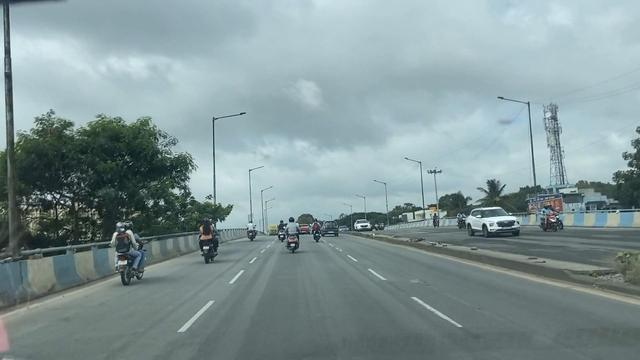LMV: (113, 221, 146, 278), (197, 214, 220, 265), (287, 216, 302, 254), (309, 219, 324, 242), (328, 219, 344, 240), (243, 221, 257, 242)
